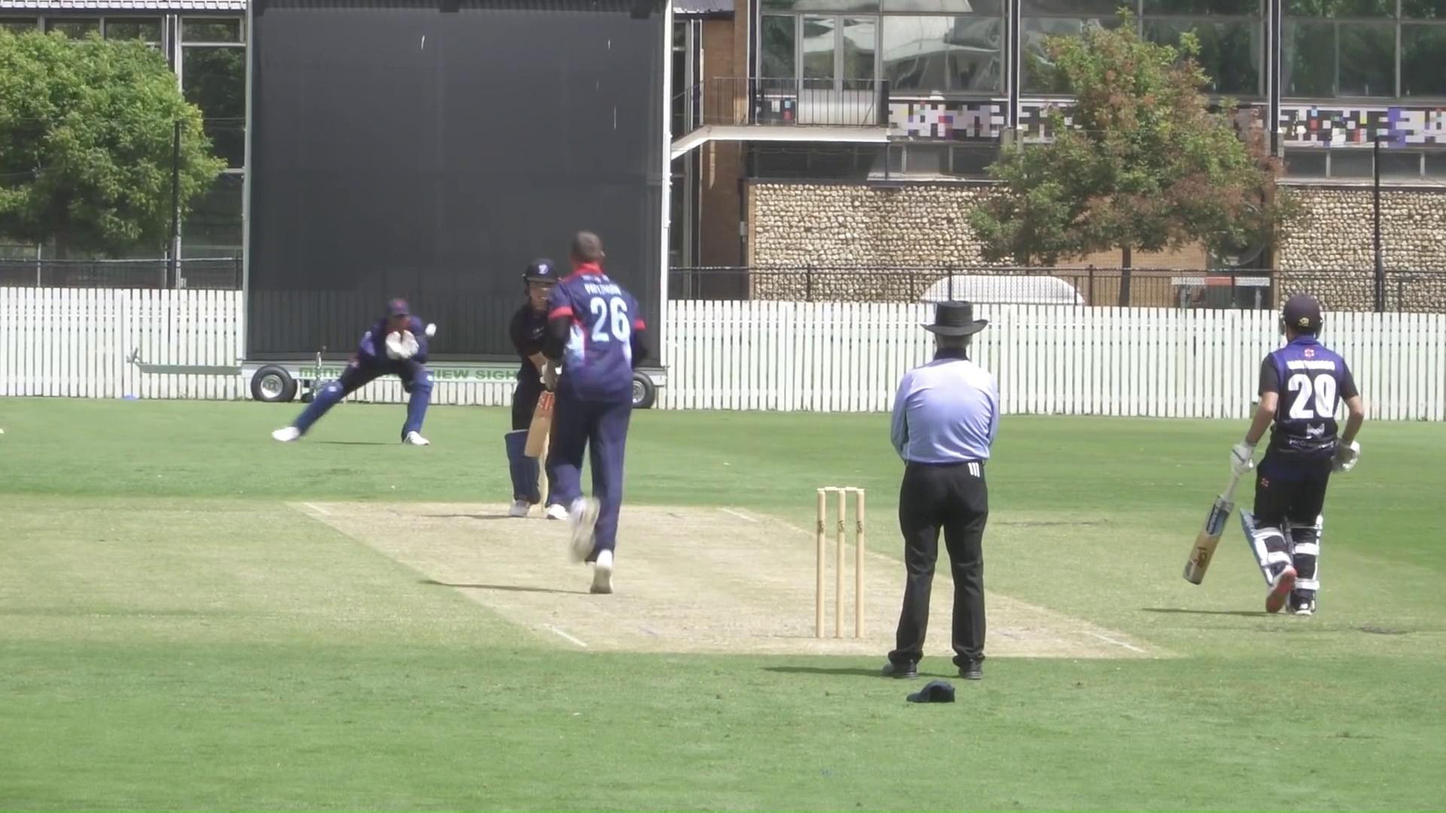ball: (422, 322, 441, 339)
